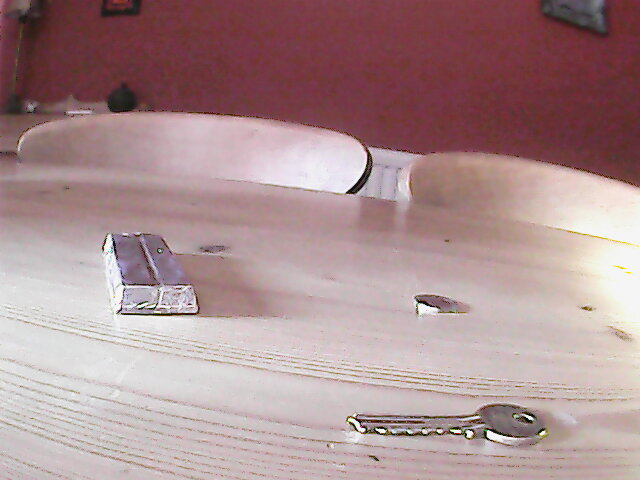Coin: (410, 293, 461, 315)
Foil: (98, 230, 201, 318)
Key: (343, 401, 551, 444)
